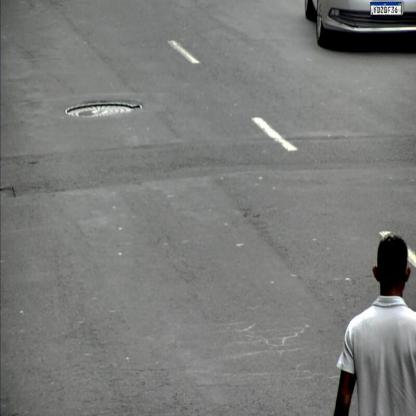PlacaM: (370, 2, 402, 15)
